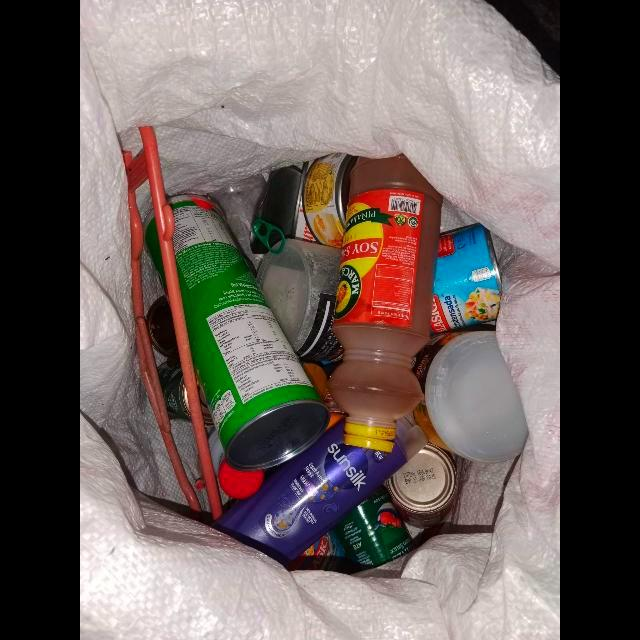aluminum: (166, 195, 330, 472), (431, 223, 502, 334), (335, 487, 414, 570), (250, 162, 320, 255), (386, 443, 457, 529), (302, 152, 358, 248), (288, 530, 346, 571), (158, 362, 192, 421), (146, 296, 176, 358)
plastic_bottle: (328, 155, 443, 453), (211, 413, 429, 567), (208, 430, 264, 499)
